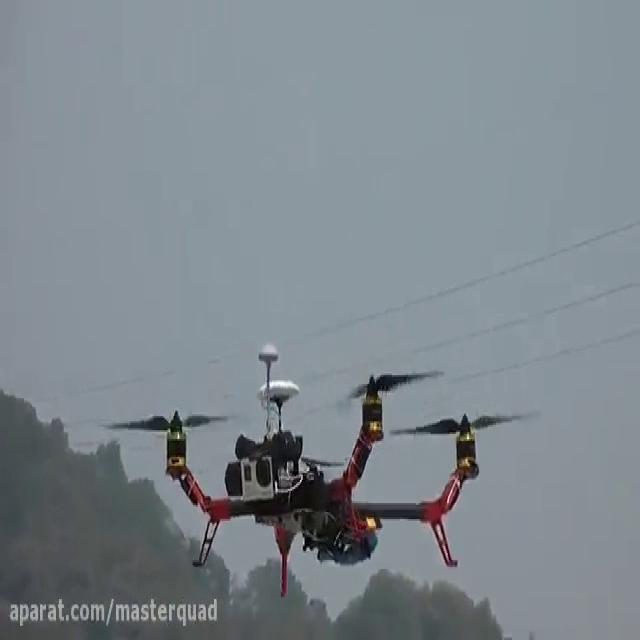drone: (94, 340, 545, 598)
